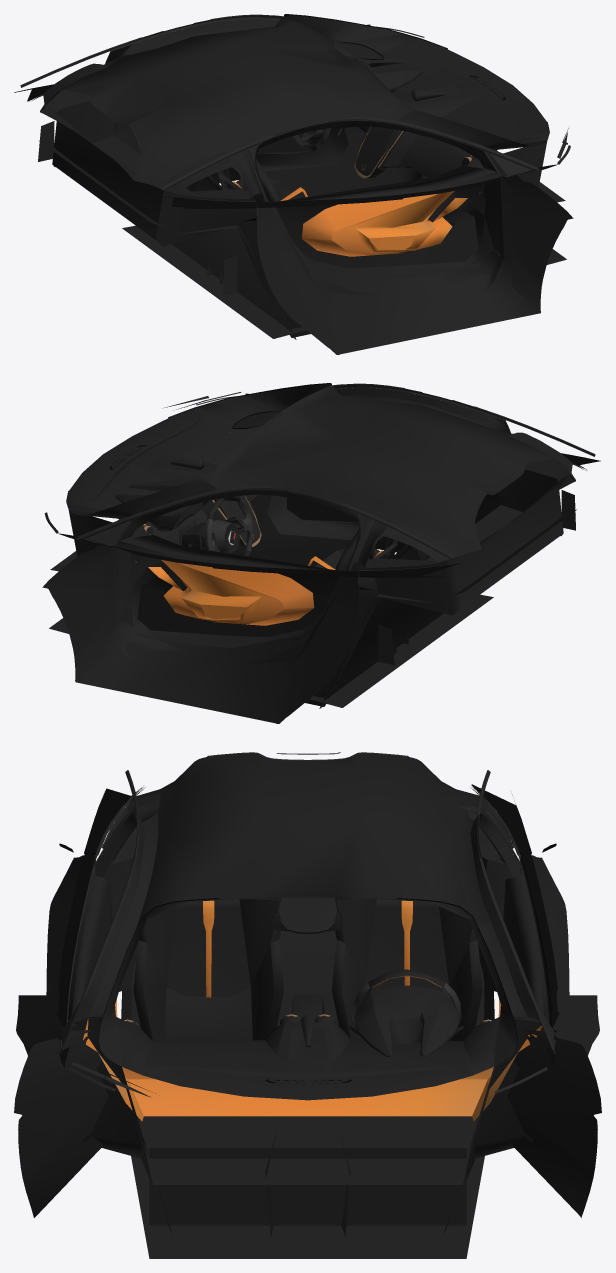
The picture shows the model from 3 angles, top to bottom: view 1: azimuth 30°, elevation 25°; view 2: azimuth 150°, elevation 25°; view 3: azimuth 270°, elevation 25°; orthographic projection. The views are drawn at different scales.
Visible parts, largest first — view 1: body, steer; view 2: body, steer; view 3: body, steer.
Boxes of the visible parts, x1,y1,x2,y2 form: body: [14, 14, 573, 354]; steer: [292, 128, 331, 151]; body: [42, 383, 600, 723]; steer: [201, 496, 253, 556]; body: [14, 752, 601, 1258]; steer: [352, 969, 461, 1025].
Bounding box in the file's own units: 2.04 × 1.03 × 1.9.
Materials: 5 (1 with a texture image).
